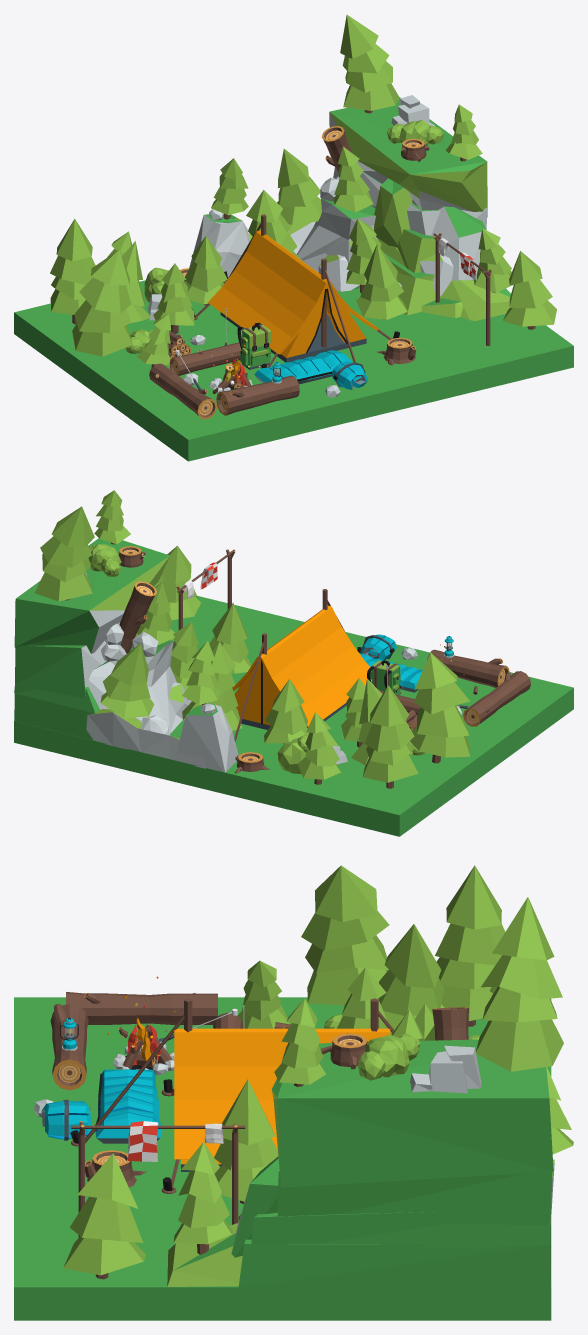
Rendered from Modified Camping Asset Collection.glb.
The picture shows the model from 3 angles, top to bottom: view 1: azimuth 30°, elevation 25°; view 2: azimuth 150°, elevation 25°; view 3: azimuth 270°, elevation 25°; orthographic projection. The views are drawn at different scales.
Parts seen in each view (by area): view 1: group2016668438, group1952899948, group263612592, group892487588, group1952414952, group2025258381, group954393760, group1511101908, group800851294, group1019102024, group624108358, group947843091 (+32 smaller); view 2: group2016668438, group1952899948, group263612592, group892487588, group1952414952, group632722702, group2025258381, group1774266040, group1806860140, group800851294, group954393760, group1434122196 (+25 smaller); view 3: group2016668438, group1952899948, group1434122196, group1997237509, group632722702, group1952414952, group1511301575, group892487588, group2025258381, group1511101908, group282285962, group137140296 (+18 smaller).
Part boxes in pixels (left/top/right/bottom): group2016668438: left=14, top=280, right=573, bottom=461; group1952899948: left=329, top=97, right=487, bottom=217; group263612592: left=208, top=230, right=327, bottom=354; group892487588: left=72, top=249, right=132, bottom=356; group1952414952: left=340, top=14, right=399, bottom=113; group2025258381: left=50, top=219, right=95, bottom=324; group954393760: left=296, top=198, right=378, bottom=289; group1511101908: left=503, top=251, right=556, bottom=329; group800851294: left=277, top=148, right=321, bottom=225; group1019102024: left=356, top=244, right=407, bottom=319; group624108358: left=431, top=206, right=486, bottom=280; group947843091: left=374, top=178, right=412, bottom=247; group2016668438: left=14, top=595, right=573, bottom=836; group1952899948: left=14, top=538, right=169, bottom=653; group263612592: left=260, top=606, right=371, bottom=728; group892487588: left=410, top=652, right=470, bottom=763; group1952414952: left=35, top=506, right=94, bottom=601; group632722702: left=15, top=622, right=120, bottom=697; group2025258381: left=362, top=685, right=418, bottom=788; group1774266040: left=86, top=709, right=205, bottom=768; group1806860140: left=176, top=703, right=238, bottom=772; group800851294: left=100, top=643, right=154, bottom=718; group954393760: left=88, top=640, right=182, bottom=733; group1434122196: left=14, top=640, right=174, bottom=740; group2016668438: left=14, top=997, right=551, bottom=1320; group1952899948: left=271, top=1039, right=553, bottom=1187; group1434122196: left=238, top=1214, right=550, bottom=1287; group1997237509: left=174, top=1028, right=390, bottom=1159; group632722702: left=277, top=1170, right=552, bottom=1231; group1952414952: left=476, top=897, right=563, bottom=1071; group1511301575: left=251, top=1211, right=550, bottom=1249; group892487588: left=301, top=865, right=389, bottom=1005; group2025258381: left=435, top=865, right=505, bottom=1026; group1511101908: left=63, top=1153, right=145, bottom=1279; group282285962: left=378, top=924, right=444, bottom=1035; group137140296: left=66, top=992, right=217, bottom=1024.
Bounding box in the file's own units: 6.38 × 3.73 × 5.
